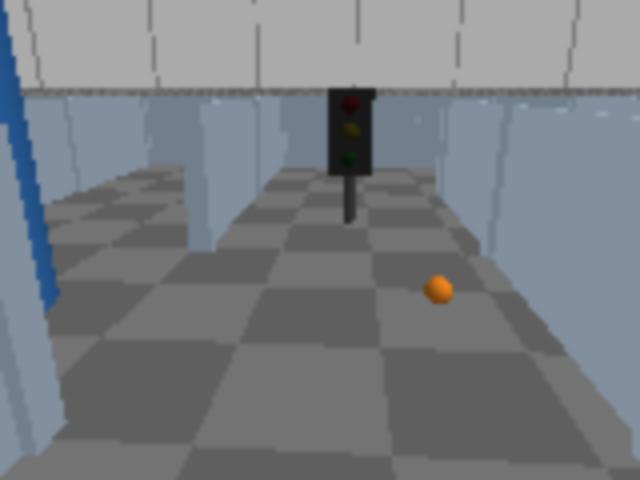person: (0, 0, 41, 370)
puck: (418, 271, 458, 311)
